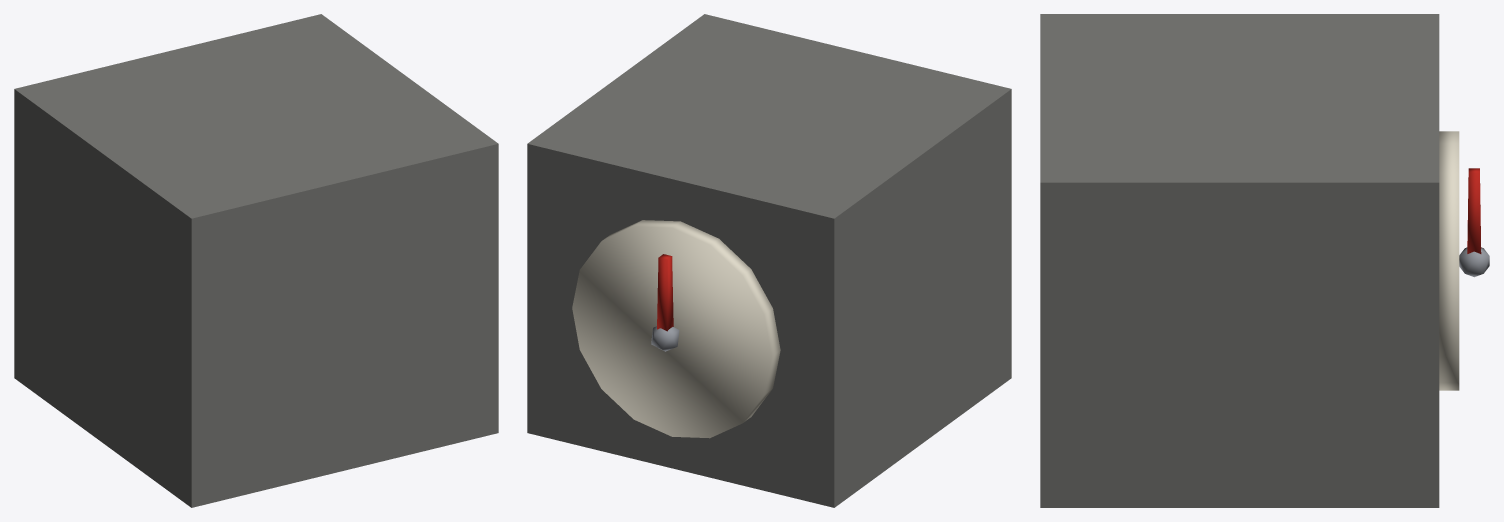
The model's file is timer_1_second_v0.glb.
The picture shows the model from 3 angles, left to right: view 1: azimuth 30°, elevation 25°; view 2: azimuth 150°, elevation 25°; view 3: azimuth 270°, elevation 25°; orthographic projection. The views are drawn at different scales.
Visible parts, largest first — view 1: timer_1_second_v0; view 2: timer_1_second_v0; view 3: timer_1_second_v0.
Part boxes in pixels (box(x1,y1,x2,y2)): timer_1_second_v0: box(14, 14, 498, 507); timer_1_second_v0: box(527, 14, 1011, 507); timer_1_second_v0: box(1040, 14, 1489, 507).
Bounding box in the file's own units: 0.4 × 0.36 × 0.4503.
